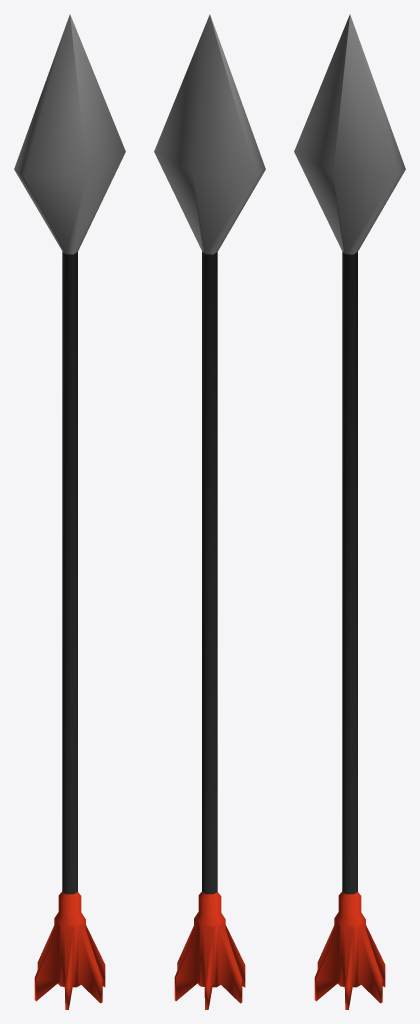
File: trap_arrow.glb
3 renders of one model, left to right at view 1: azimuth 30°, elevation 25°; view 2: azimuth 150°, elevation 25°; view 3: azimuth 330°, elevation 25°, orthographic.
Visible parts, largest first — view 1: Cube.001_visual; view 2: Cube.001_visual; view 3: Cube.001_visual.
Part boxes in pixels (bbox=[...]): Cube.001_visual: bbox=[14, 14, 125, 1009]; Cube.001_visual: bbox=[154, 14, 265, 1009]; Cube.001_visual: bbox=[294, 14, 405, 1009].
Size of what is drawn, in the model's own units: 0.1413 by 1.3 by 0.0847.
Materials: 1 (1 with a texture image).
